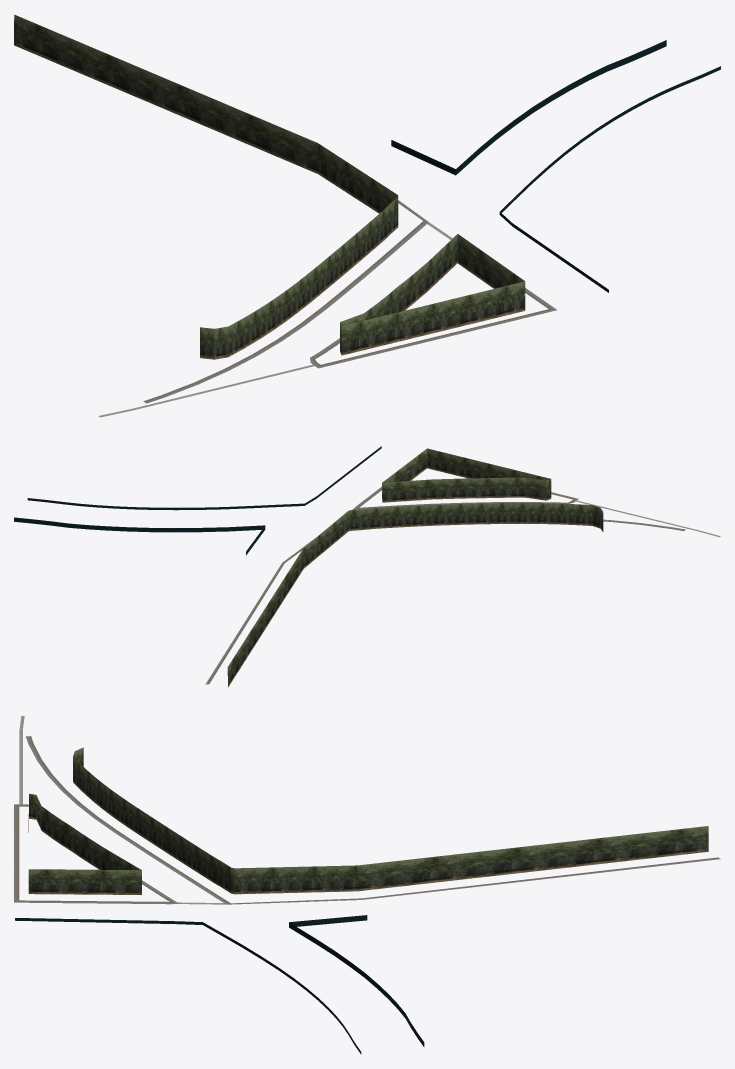
Rendered from old_repeat_lf02.FBX.
3 views of the same model, one above another, from view 1: azimuth 30°, elevation 25°; view 2: azimuth 150°, elevation 25°; view 3: azimuth 270°, elevation 25° (orthographic). The views are drawn at different scales.
Parts seen in each view (by area): view 1: ta30_00, ta36_01, ag_road_01, ta34_00; view 2: ta30_00, ta36_01, ag_road_01; view 3: ta30_00, ag_road_01, ta36_01.
Part boxes in pixels (x1=…): ta30_00: x1=14, y1=14, x2=525, y2=359; ta36_01: x1=391, y1=40, x2=720, y2=292; ag_road_01: x1=143, y1=200, x2=556, y2=403; ta34_00: x1=98, y1=222, x2=452, y2=417; ta30_00: x1=227, y1=448, x2=603, y2=687; ta36_01: x1=14, y1=446, x2=381, y2=555; ag_road_01: x1=205, y1=486, x2=685, y2=684; ta30_00: x1=28, y1=747, x2=708, y2=894; ag_road_01: x1=14, y1=736, x2=720, y2=904; ta36_01: x1=15, y1=915, x2=424, y2=1054.
Bounding box in the file's own units: 294 × 11.62 × 259.
